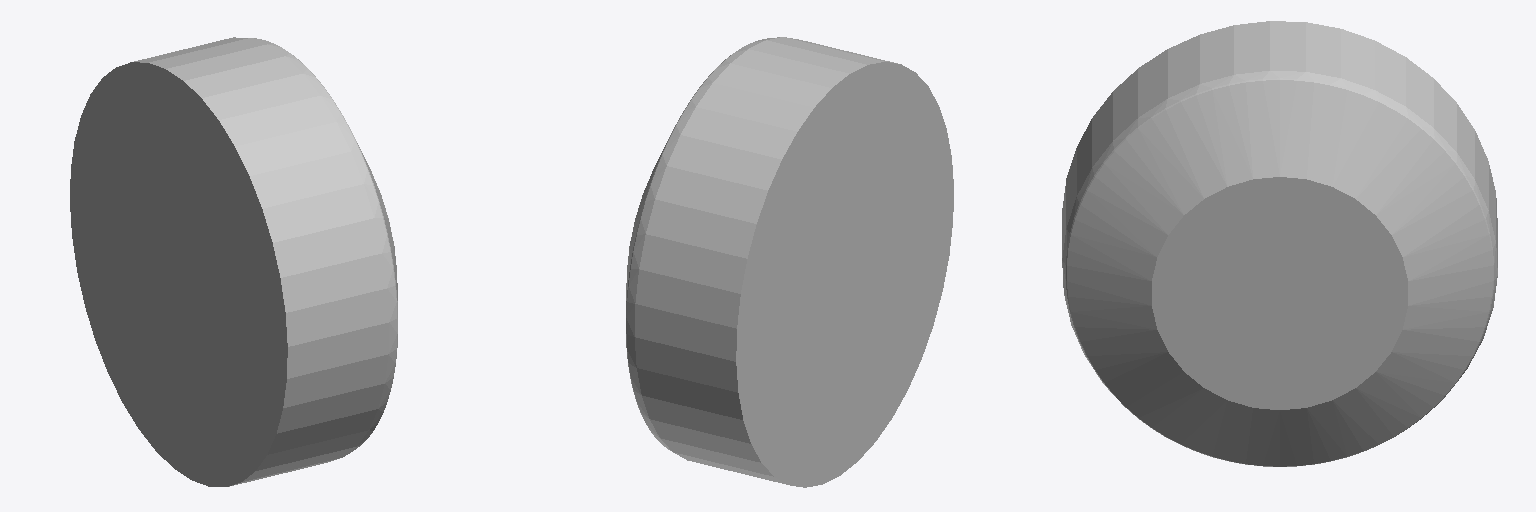
The model's file is wrist_roll_link_collision.obj.
The picture shows the model from 3 angles: view 1: azimuth 30°, elevation 25°; view 2: azimuth 150°, elevation 25°; view 3: azimuth 270°, elevation 25°; orthographic projection.
Size of the model in its own units: 0.0425 by 0.1039 by 0.1039.